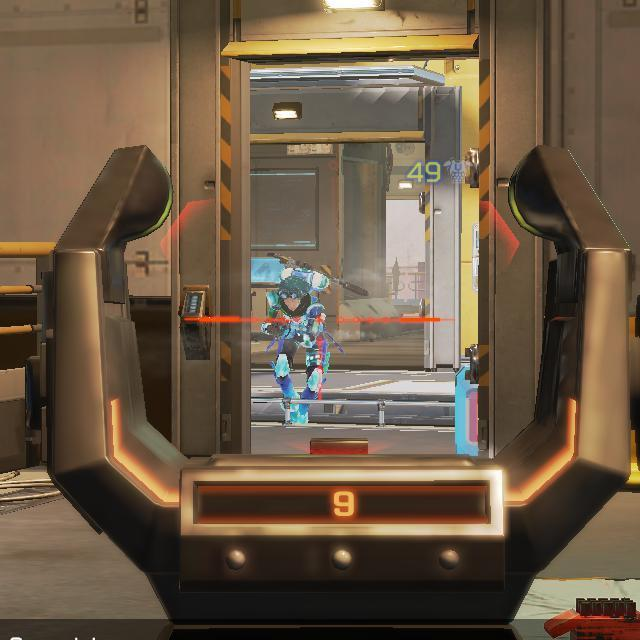avatar: (260, 266, 331, 428)
